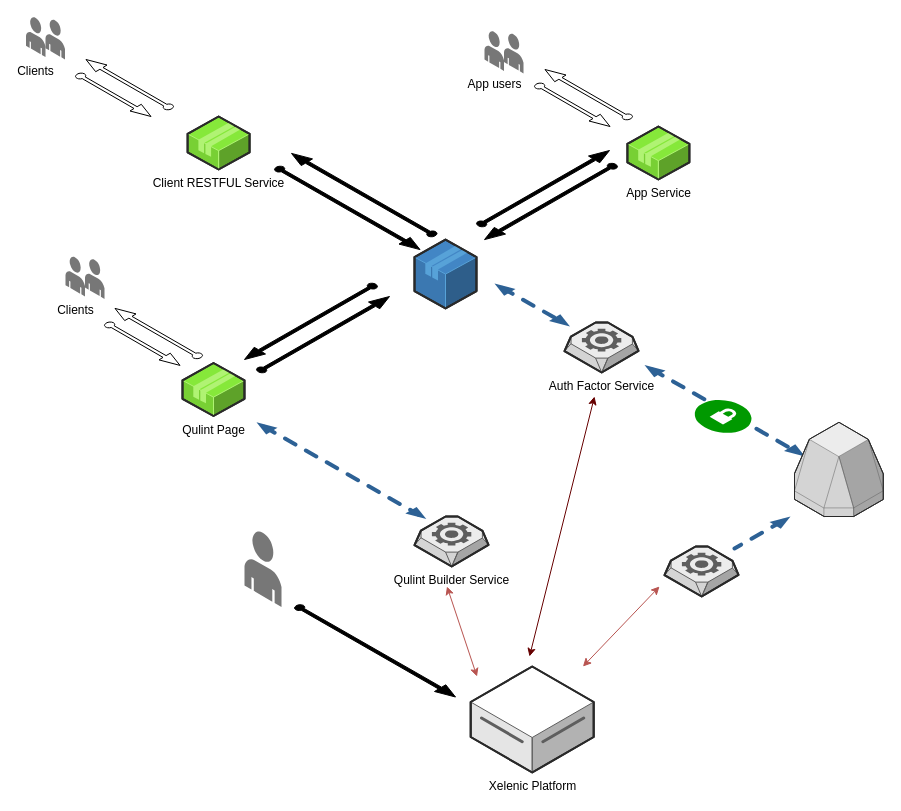
Image size: 901x811. Some labels were removed from this diagram. Each missing label, with the box of its shape:
API Builder Service: (664, 546, 738, 596)
Secure Connection: (694, 398, 752, 434)
User: (244, 531, 281, 606)
Virtual DB: (794, 421, 883, 516)
Xelenic Middlewere: (414, 239, 476, 308)
